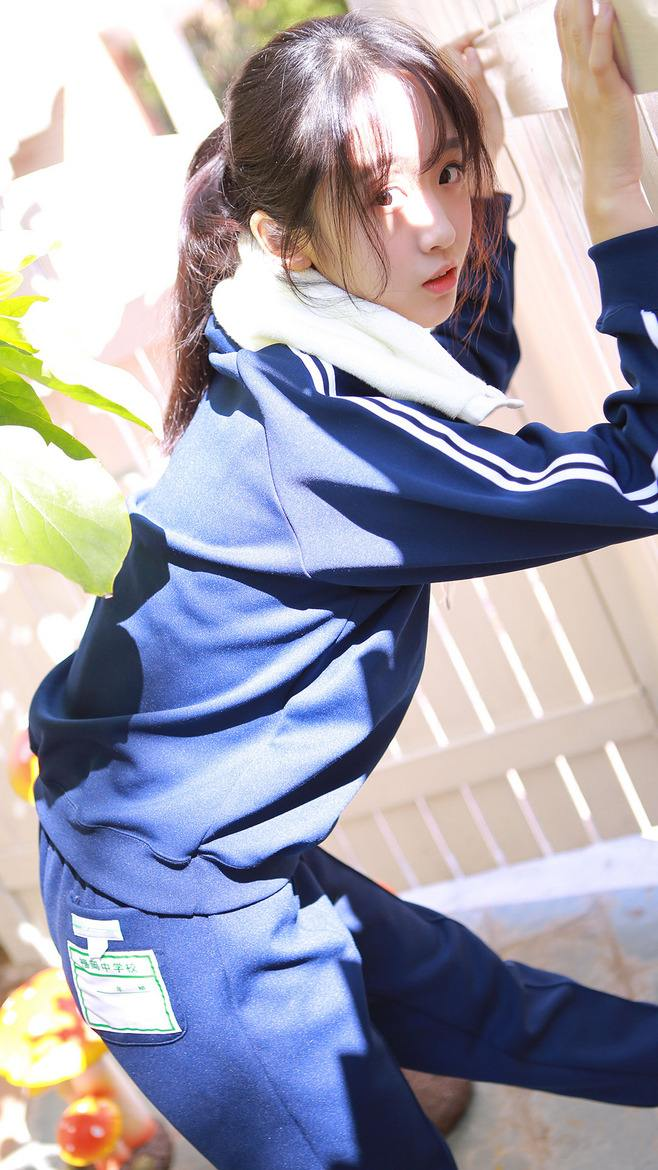person: (71, 34, 549, 1103)
